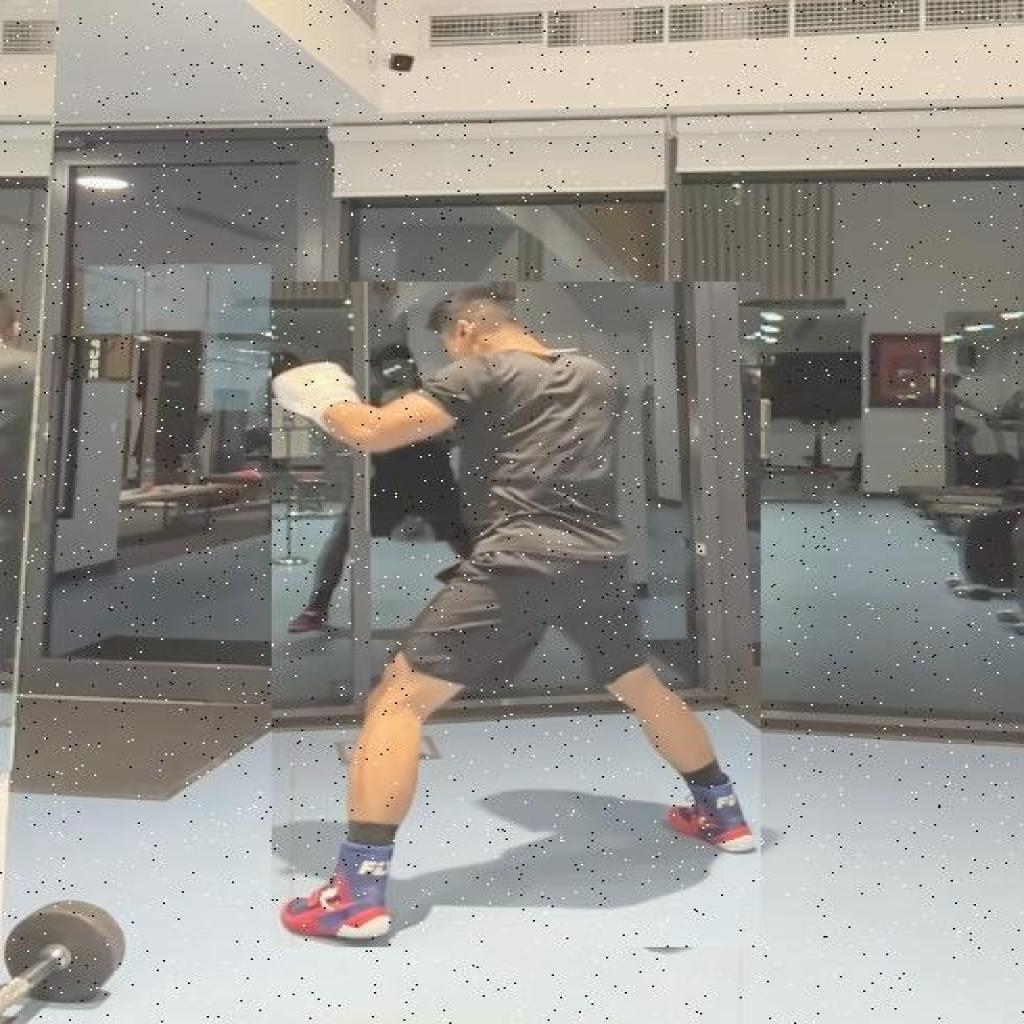hook: (272, 282, 762, 947)
